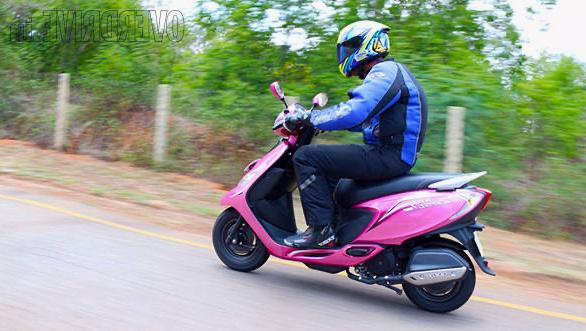With Helmet: (330, 15, 394, 79)
